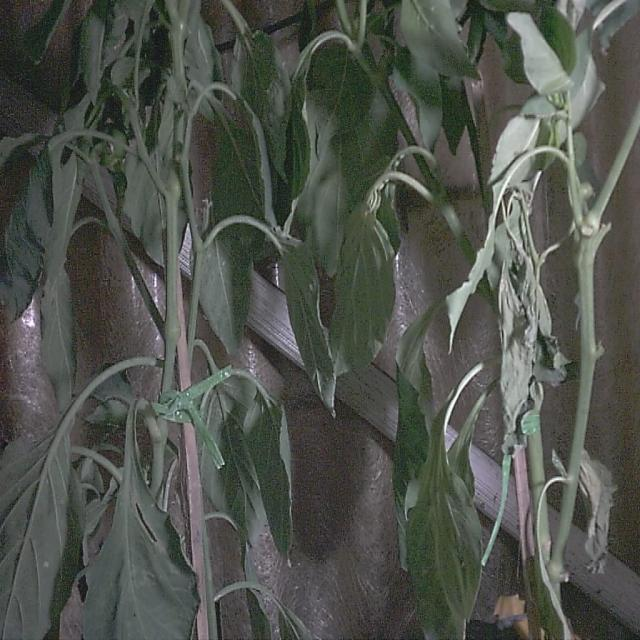Leaf: (84, 413, 198, 639), (296, 44, 397, 276), (0, 432, 74, 638), (330, 207, 394, 374), (283, 244, 335, 410), (401, 0, 476, 77)
